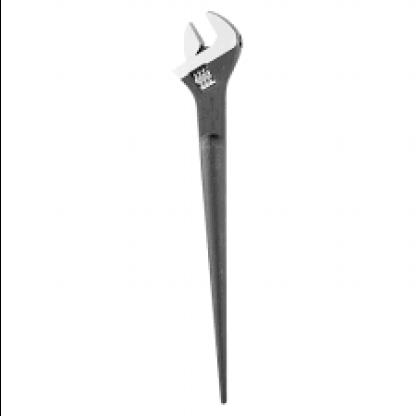Wrench: (171, 11, 243, 407)
